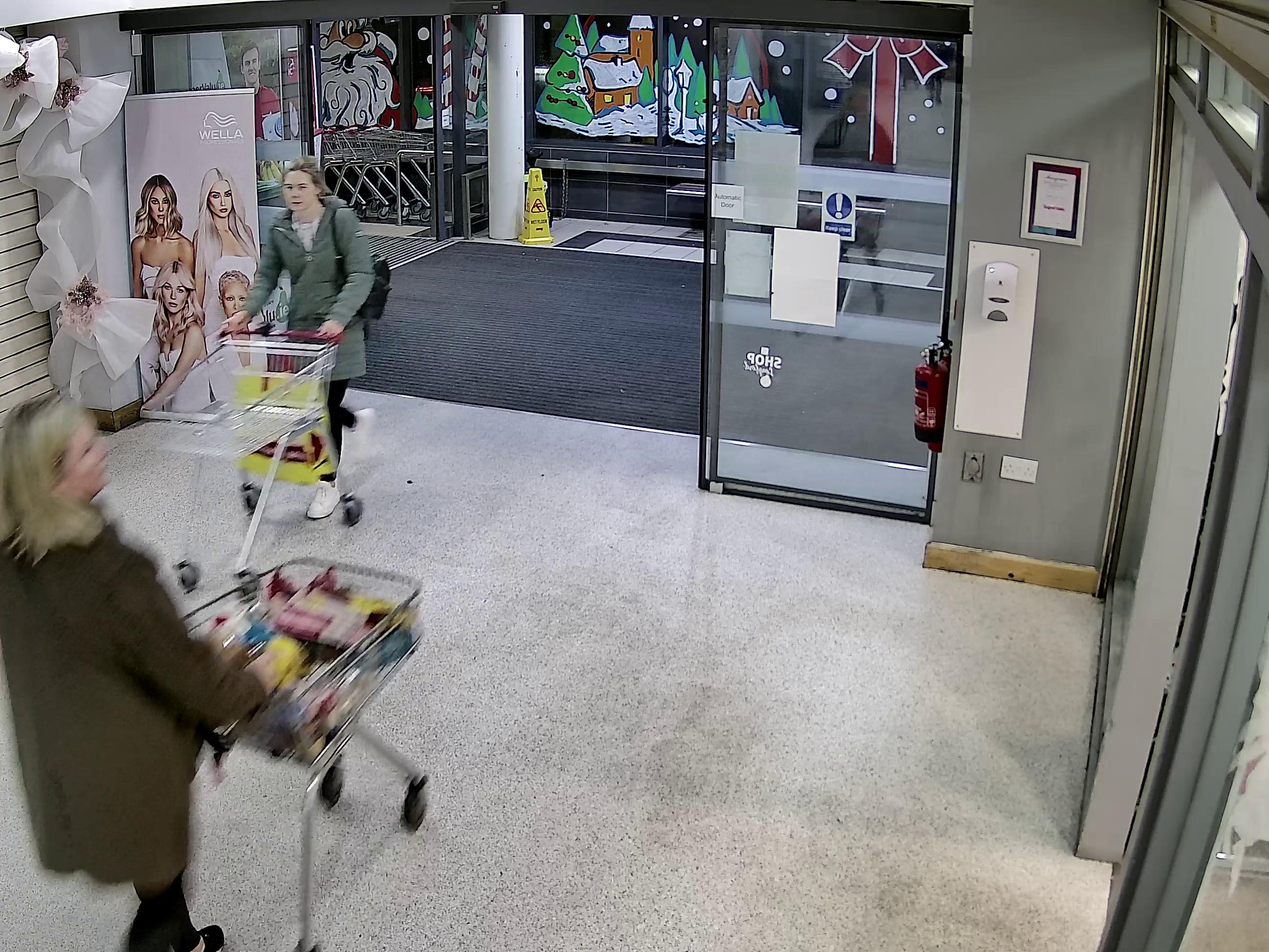backpack-or-handbag: (335, 249, 391, 320)
empty-shopping-bags: (235, 371, 335, 478)
empty-trolly: (145, 327, 365, 589)
filled-trolly: (167, 555, 430, 952)
person: (0, 392, 282, 952), (223, 161, 376, 518)
person-with-basket-trolly-shopping-bag-s-and-backpack-handbag: (145, 160, 394, 592)
person-with-filled-basket-trolly: (3, 389, 431, 952)
